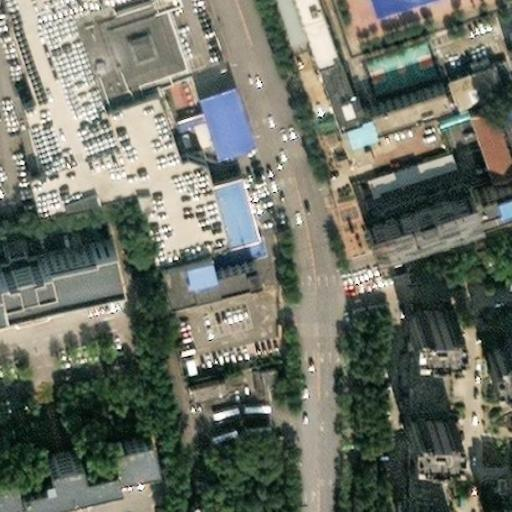building: (8, 0, 227, 238), (0, 432, 144, 492), (366, 185, 481, 252), (287, 0, 348, 106), (0, 233, 106, 293), (333, 69, 442, 122), (151, 237, 250, 285), (357, 140, 447, 183), (199, 64, 251, 134), (462, 85, 511, 156), (403, 321, 444, 404), (400, 429, 444, 506), (212, 153, 254, 223), (403, 290, 454, 322), (443, 52, 481, 90), (400, 400, 448, 429), (181, 363, 233, 389), (230, 356, 266, 392), (490, 80, 512, 133), (2, 286, 38, 307), (476, 496, 512, 512), (401, 502, 450, 512), (307, 122, 328, 144), (323, 148, 339, 167)
